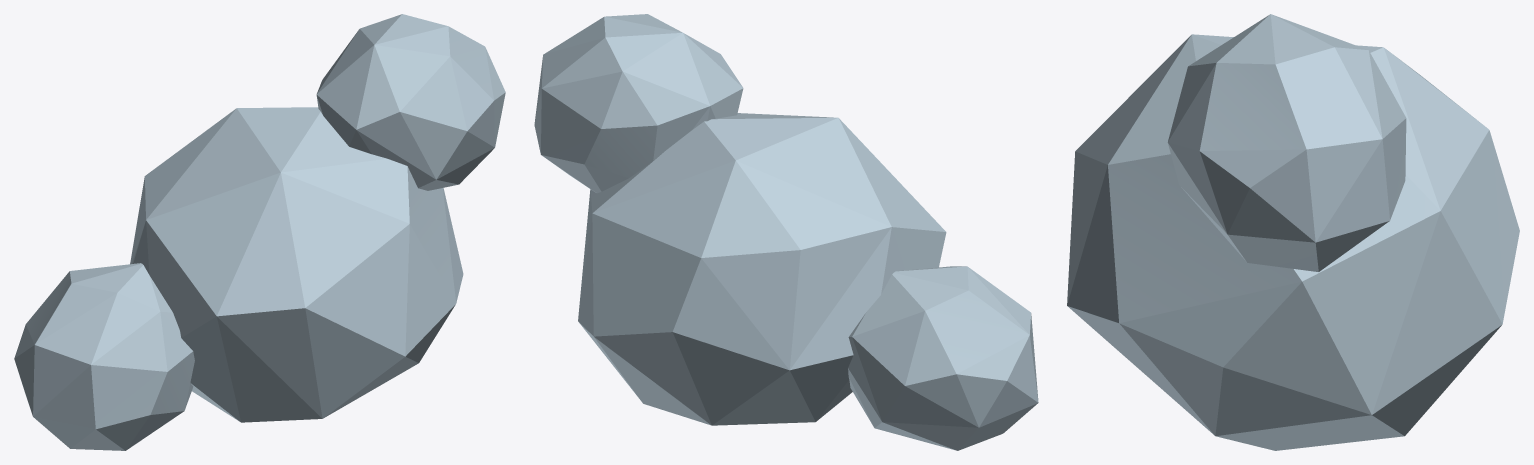
The model's file is small_cloud_36.fbx.
3 views of the same model, side by side, from view 1: azimuth 30°, elevation 25°; view 2: azimuth 150°, elevation 25°; view 3: azimuth 270°, elevation 25° (orthographic). The views are drawn at different scales.
Visible parts, largest first — view 1: cloud_6; view 2: cloud_6; view 3: cloud_6.
Boxes of the visible parts, x1,y1,x2,y2 form: cloud_6: (14,14,505,450); cloud_6: (534,14,1038,450); cloud_6: (1067,14,1519,450).
Bounding box in the file's own units: 338 × 238 × 211.
